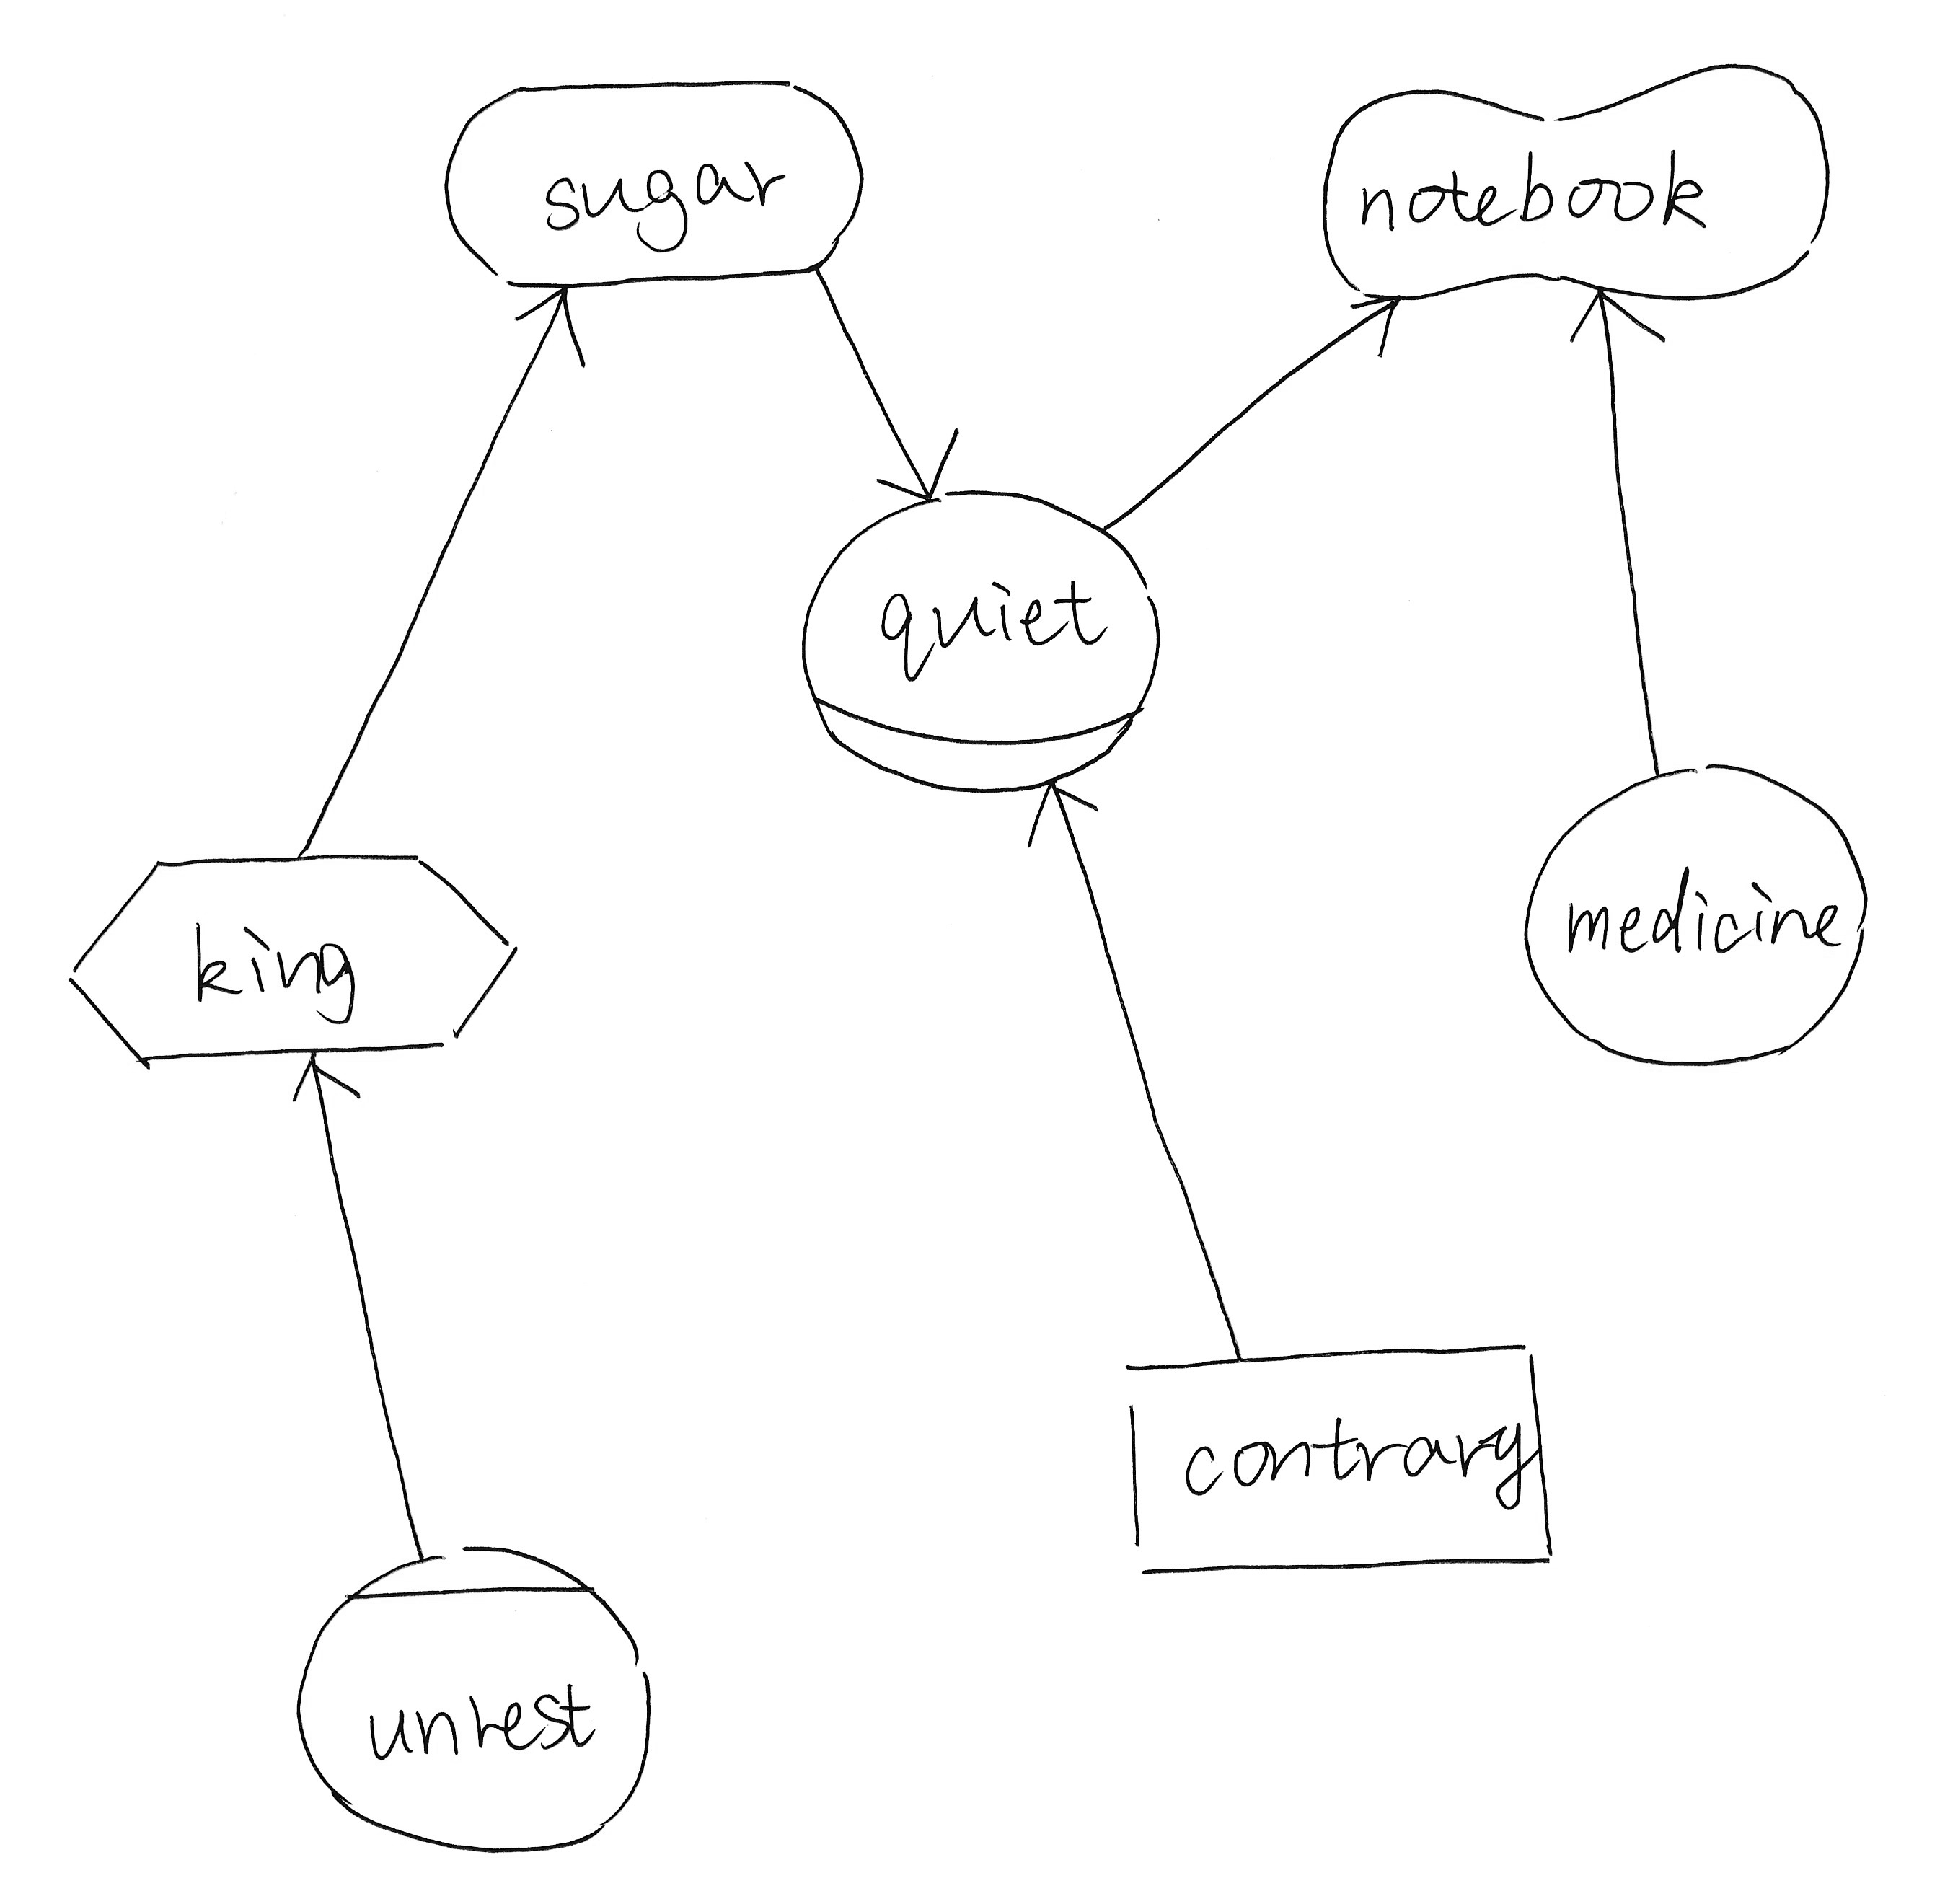actor: (1503, 748, 1879, 1077)
agent: (276, 1526, 670, 1867)
arrow: (864, 414, 979, 516), (1558, 276, 1677, 367), (498, 278, 603, 378), (278, 1042, 378, 1117), (1021, 771, 1105, 858), (1330, 281, 1416, 365)
goal: (427, 54, 874, 308)
quality: (1302, 42, 1851, 322)
resource: (1105, 1327, 1572, 1588)
role: (788, 474, 1175, 808)
task: (51, 834, 537, 1075)
